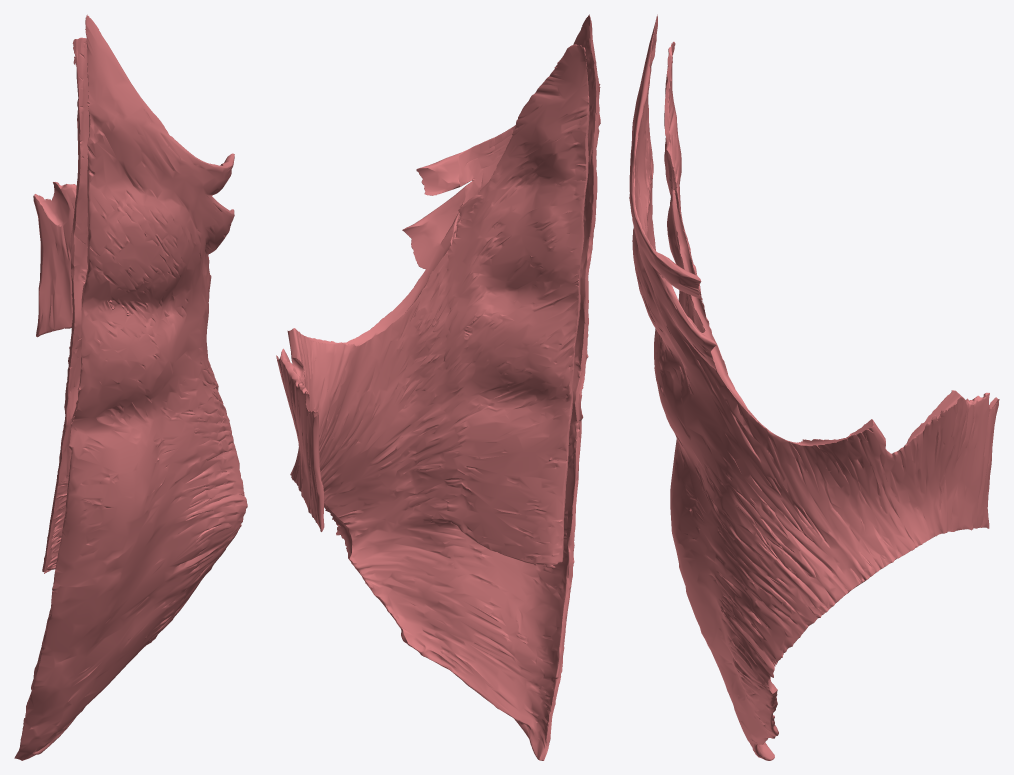
The model's file is BP3D3_FMA13893.glb.
3 views of the same model, side by side, from view 1: azimuth 30°, elevation 25°; view 2: azimuth 150°, elevation 25°; view 3: azimuth 270°, elevation 25° (orthographic). The views are drawn at different scales.
Visible parts, largest first — view 1: BP3D3_FMA13893; view 2: BP3D3_FMA13893; view 3: BP3D3_FMA13893.
Part boxes in pixels (x1,y1,x2,y2): BP3D3_FMA13893: [14, 14, 247, 760]; BP3D3_FMA13893: [276, 14, 600, 760]; BP3D3_FMA13893: [629, 14, 999, 760].
Bounding box in the file's own units: 0.1198 × 0.3772 × 0.1691.
